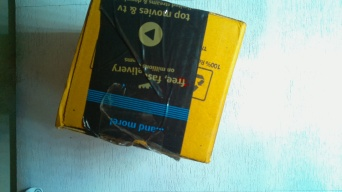a: (50, 1, 248, 168)
